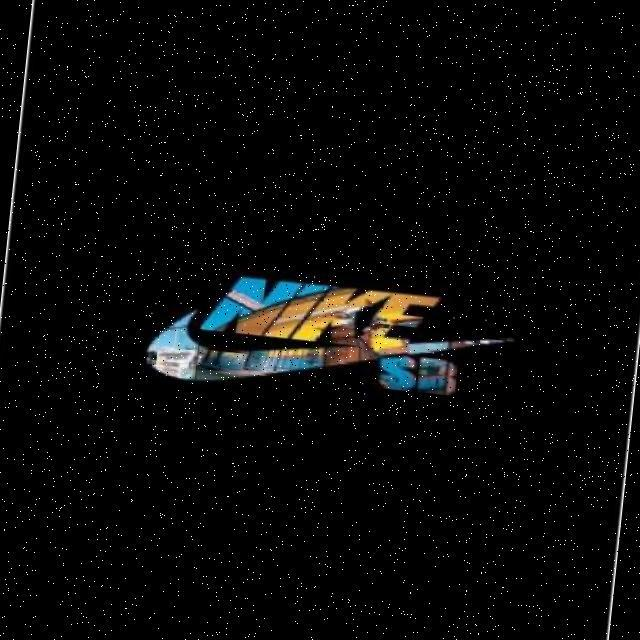Nike: (128, 258, 516, 412)
